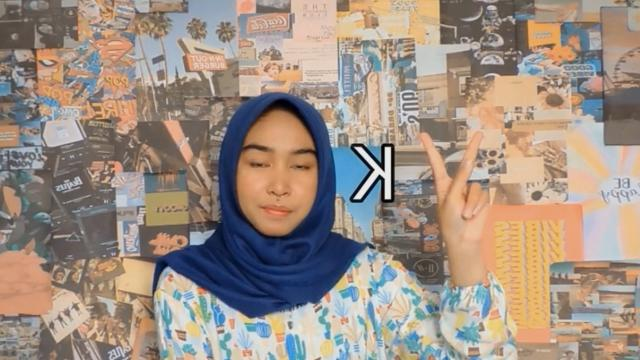K: (419, 130, 495, 253)
